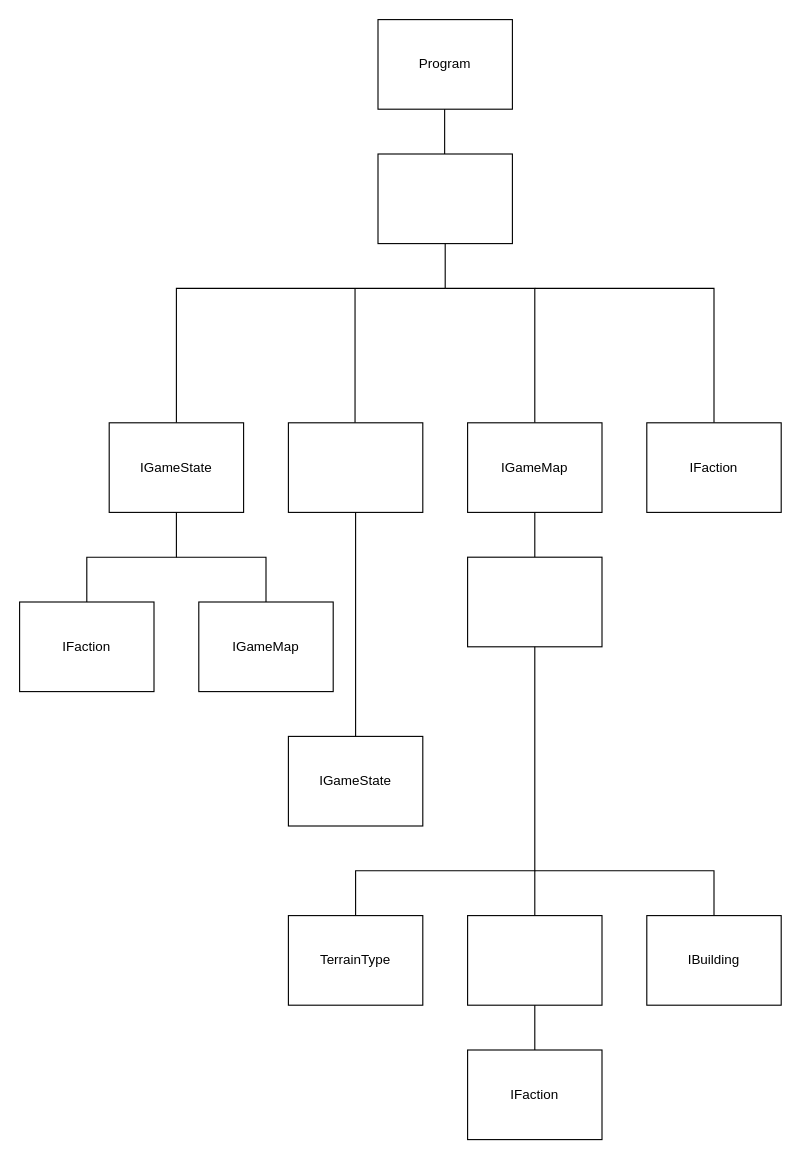
The diagram is 801 pixels wide and 1159 high, and some of its shapes have lost their labels. Each missing label, with the centre of its shape:
"GameController" goes at (x=444, y=198).
"IEntity" goes at (x=534, y=959).
"IRenderer" goes at (x=355, y=467).
"ITile" goes at (x=534, y=601).
